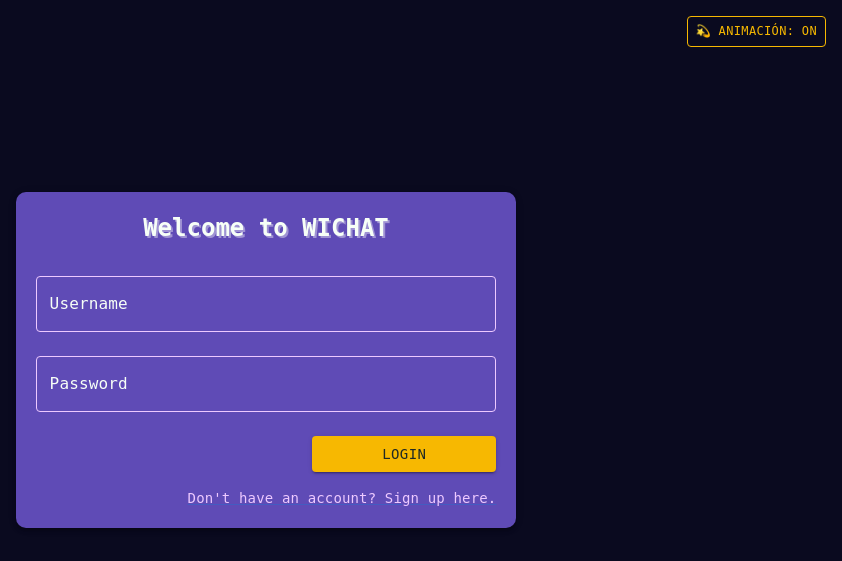
Test: Login component › should show error when server has errors
Type "testUser" into the field labelled "Username".
click(266, 304); type("testUser")  # box [36,276,496,332]
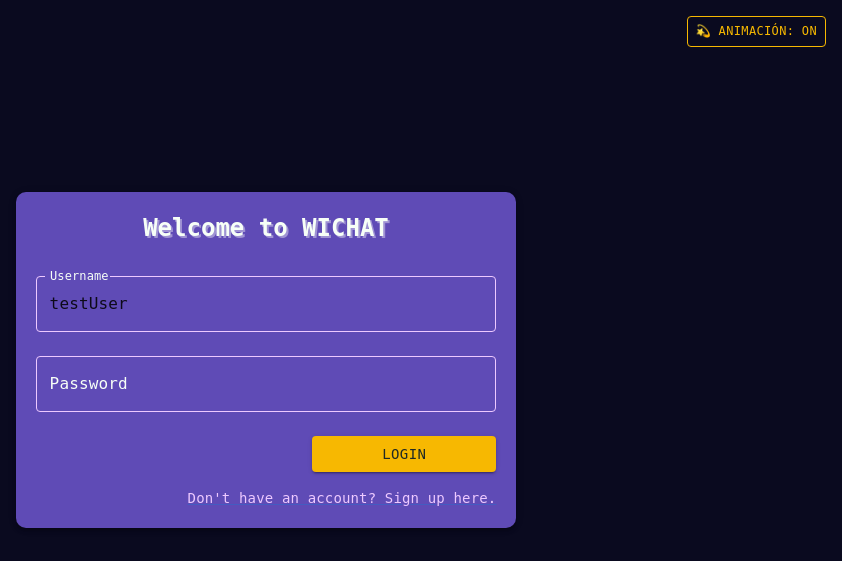
Type "wPass" into the password field labelled "Password".
click(266, 384); type("wPass")  # box [36,356,496,412]
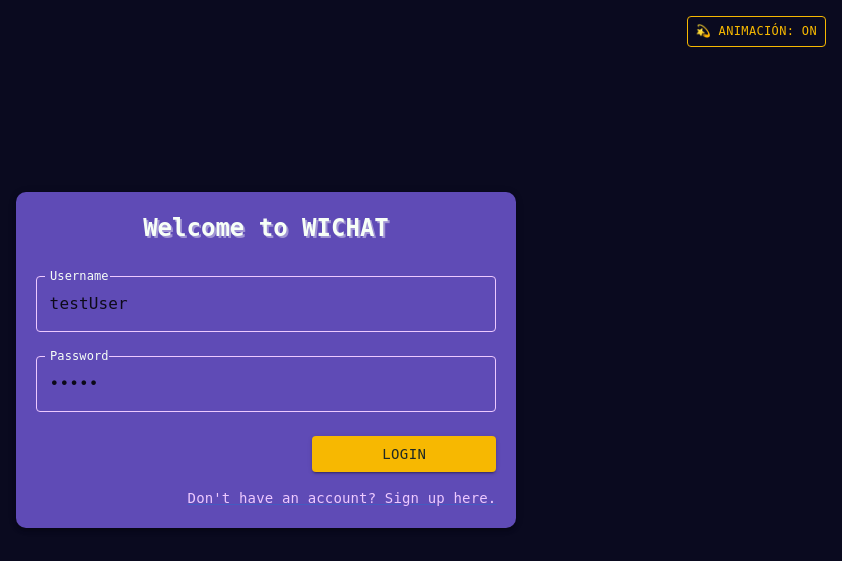
Click the button "Login".
click(404, 454)  # box [312,436,496,472]
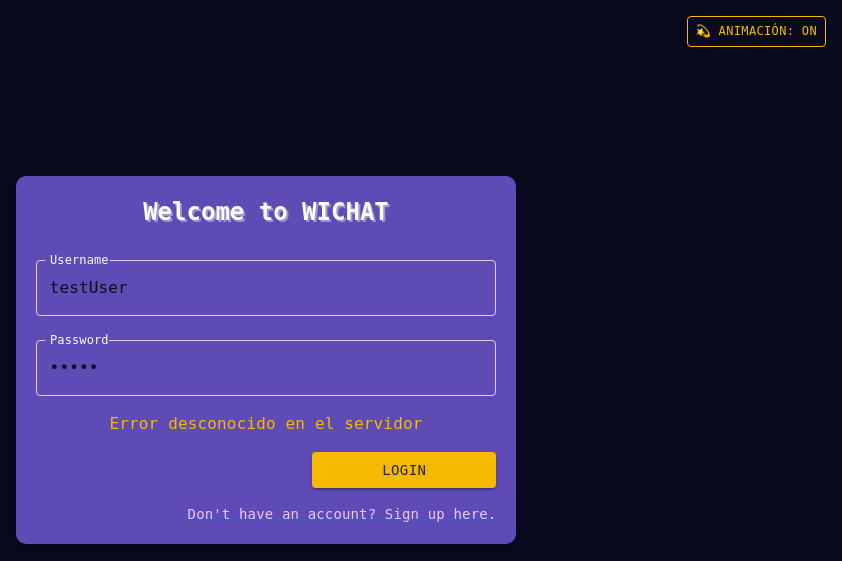
Now the text "Error desconocido en el servidor" is shown, box [110,414,423,433]
